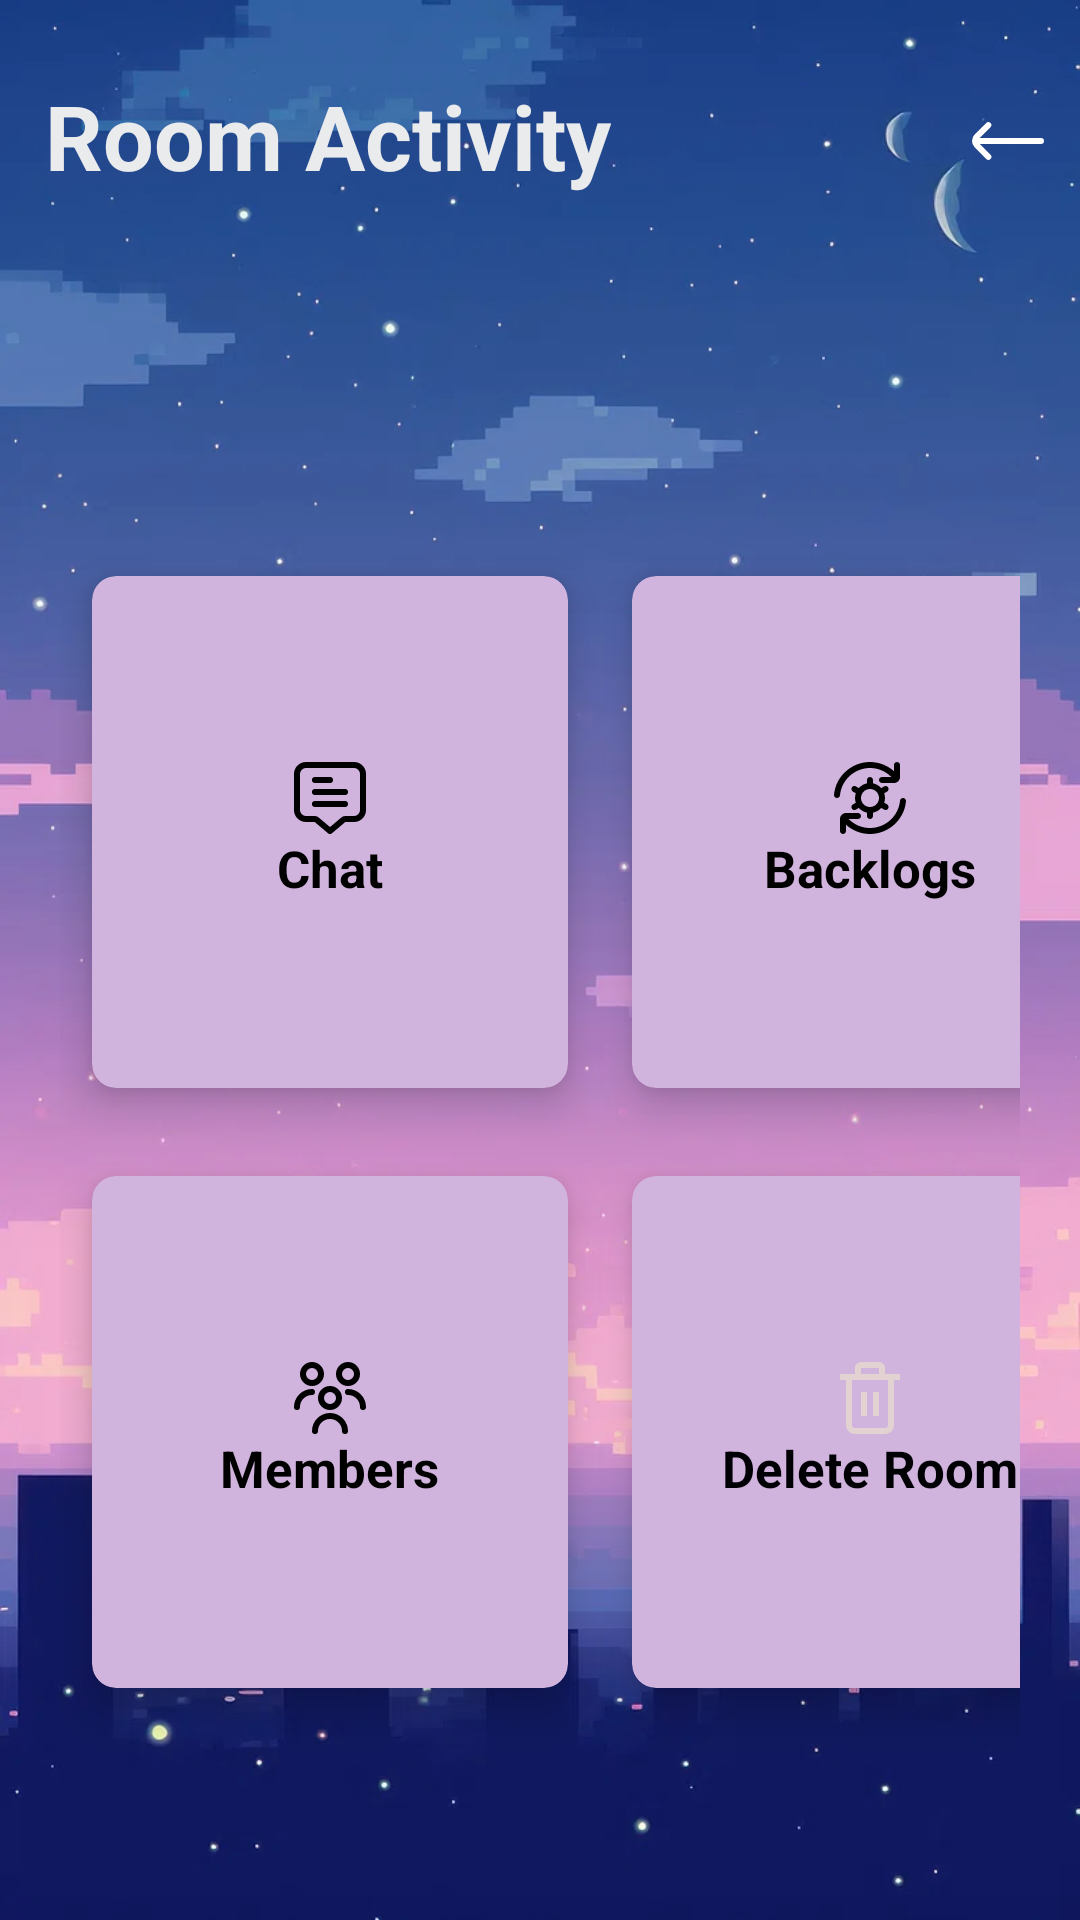

Icons on this 1080×1920 Android screen, each with the point to tap as (x,y):
back: (1008,139)
